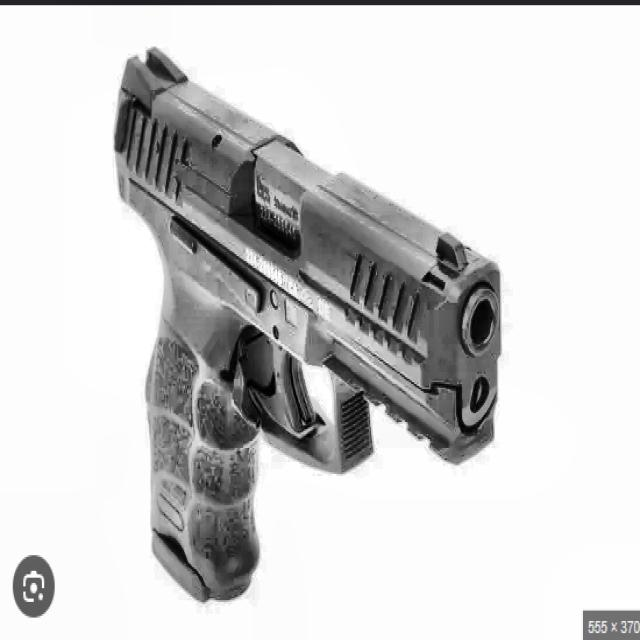HKVP9: (110, 43, 502, 604)
